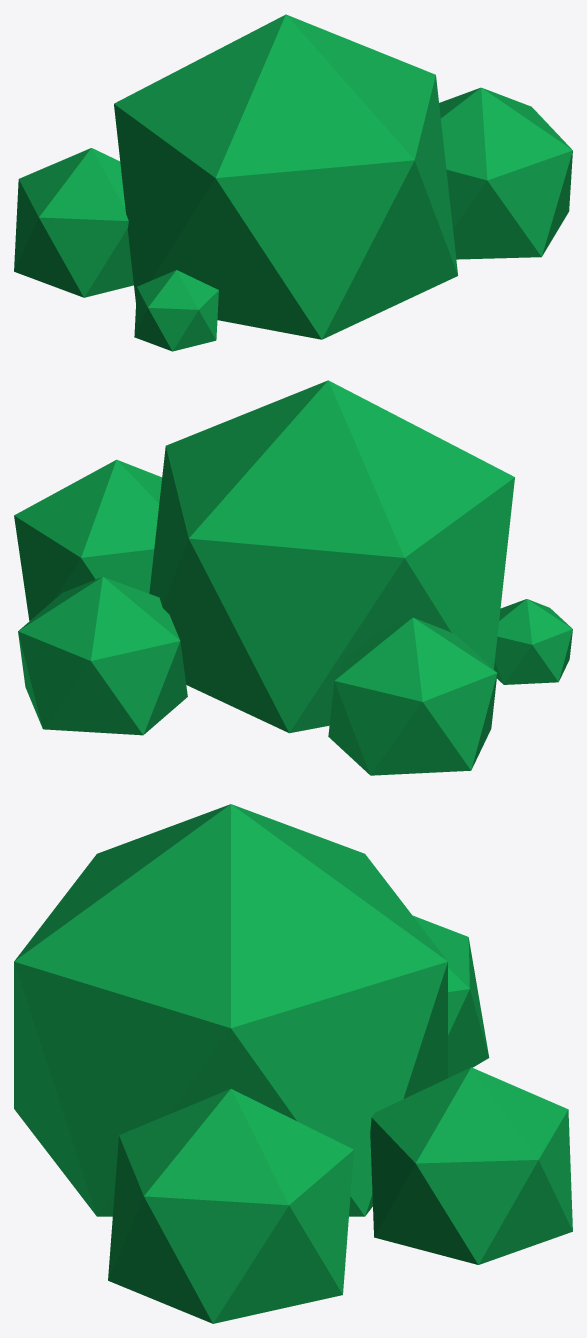
The model's file is bush.glb.
3 renders of one model, top to bottom at view 1: azimuth 30°, elevation 25°; view 2: azimuth 150°, elevation 25°; view 3: azimuth 270°, elevation 25°, orthographic. The views are drawn at different scales.
Parts seen in each view (by area): view 1: Arbusto_Grande; view 2: Arbusto_Grande; view 3: Arbusto_Grande.
Part boxes in pixels (x1,y1,x2,y2): Arbusto_Grande: [14, 14, 572, 351]; Arbusto_Grande: [14, 380, 572, 775]; Arbusto_Grande: [14, 804, 572, 1323].
Size of the model in its own units: 2.85 by 1.49 by 2.19.
1 material, 1 textured.
